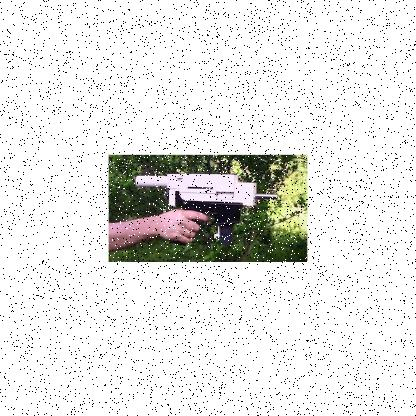gun: (129, 166, 279, 250)
